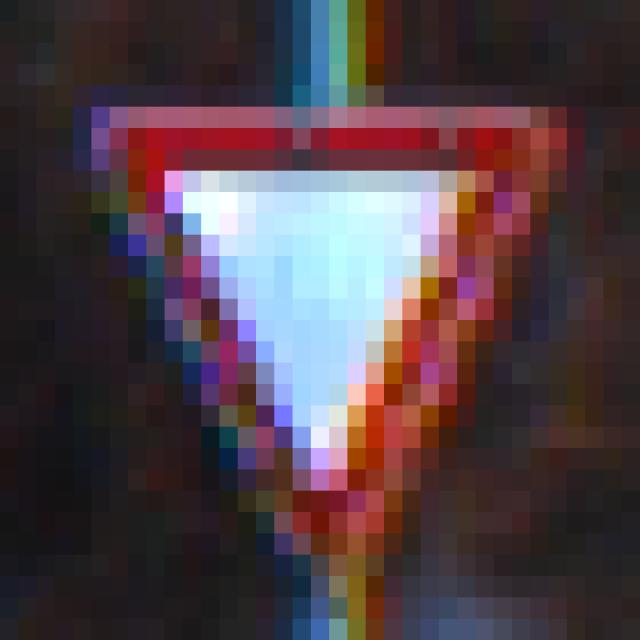Give Way: (93, 108, 550, 534)
